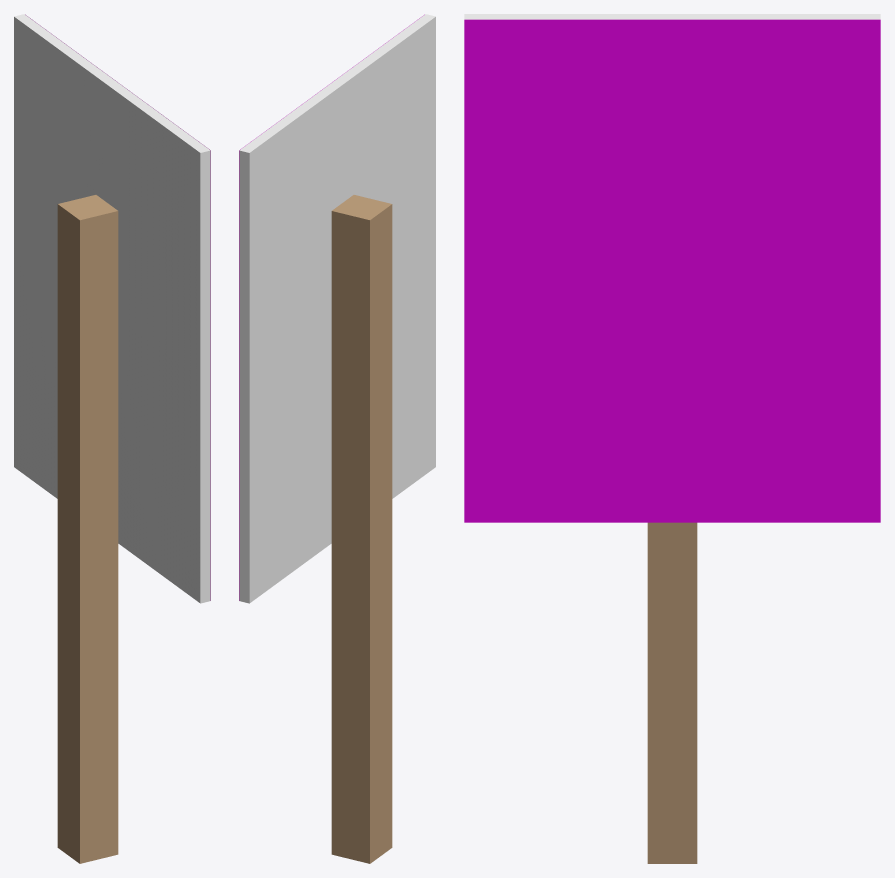
Rendered from sign_protest_1.glb.
3 views of the same model, side by side, from view 1: azimuth 30°, elevation 25°; view 2: azimuth 150°, elevation 25°; view 3: azimuth 270°, elevation 25° (orthographic). The views are drawn at different scales.
Visible parts, largest first — view 1: frame, stick, plane; view 2: frame, stick, plane; view 3: plane, stick, frame.
Part boxes in pixels (box(x1,y1,x2,y2)): frame: box(14, 14, 210, 603); stick: box(57, 195, 118, 863); plane: box(25, 14, 210, 600); frame: box(239, 14, 435, 603); stick: box(331, 195, 392, 863); plane: box(239, 14, 424, 600); plane: box(464, 19, 880, 522); stick: box(647, 522, 697, 863); frame: box(464, 14, 880, 19).
Bounding box in the file's own units: 0.0955 × 1.42 × 0.63.
